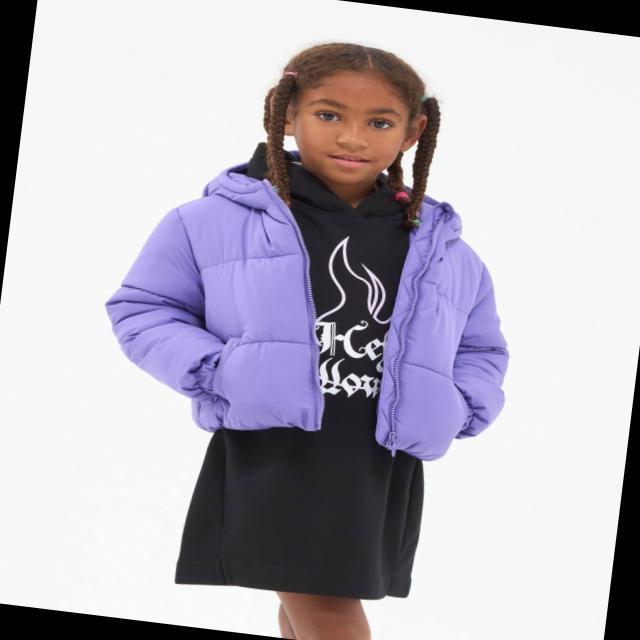Jacket: (65, 130, 587, 500)
